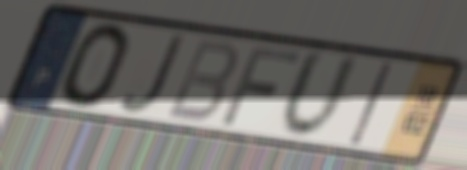B: (162, 35, 242, 125)
F: (217, 44, 304, 129)
I: (346, 59, 397, 149)
J: (117, 32, 191, 117)
O: (57, 20, 134, 112)
U: (276, 45, 364, 143)
